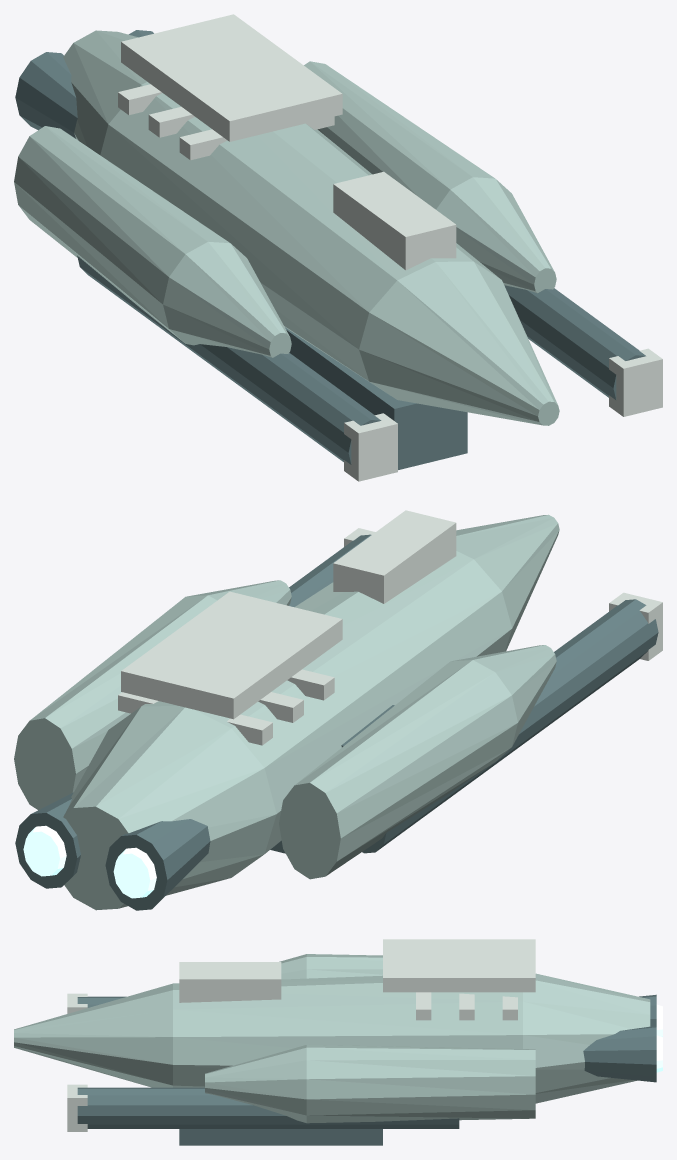
3 views of the same model, one above another, from view 1: azimuth 30°, elevation 25°; view 2: azimuth 150°, elevation 25°; view 3: azimuth 270°, elevation 25° (orthographic). The views are drawn at different scales.
Bounding box in the file's own units: 2.22 × 1.48 × 5.
